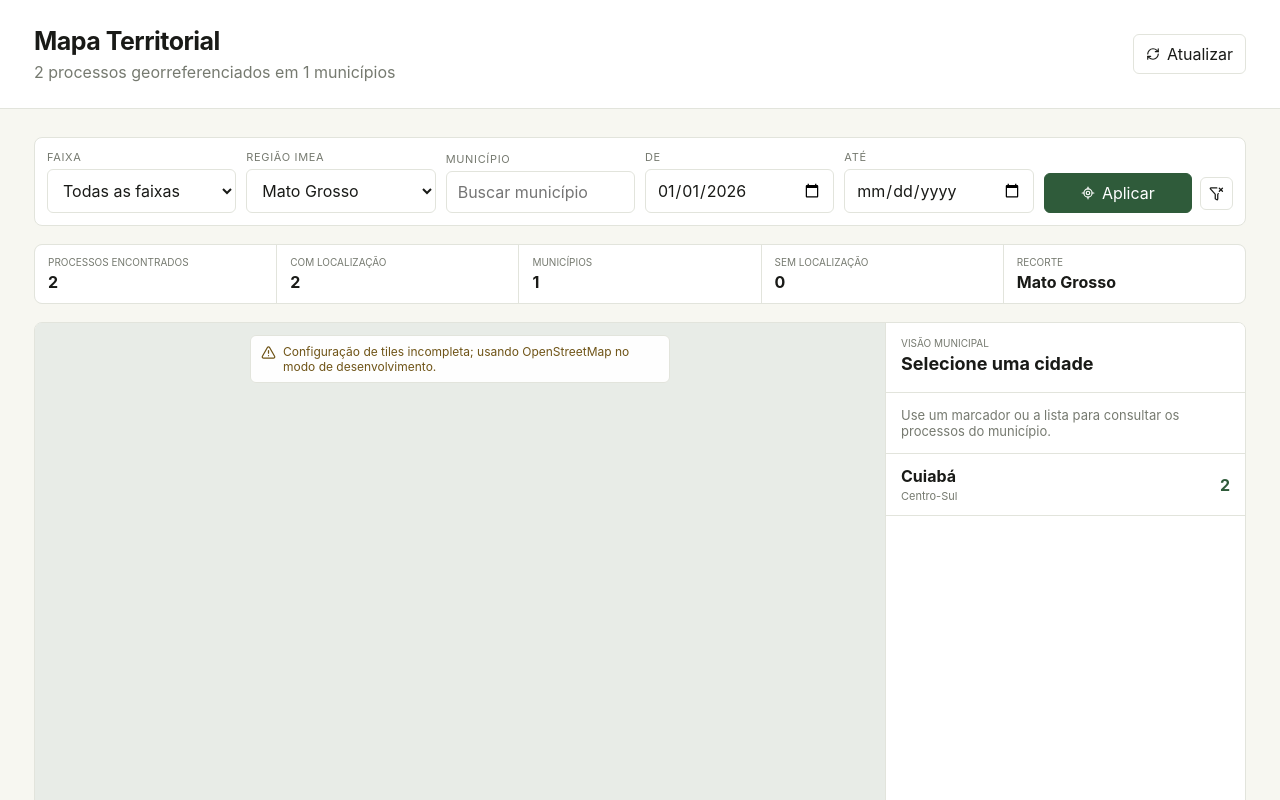
municipal process panel › clears stale rows and total when a later page response is invalid
The image size is (1280, 800).
Click the button "Cuiabá Centro-Sul 2" at (928, 476), box [886,454,1245,516]
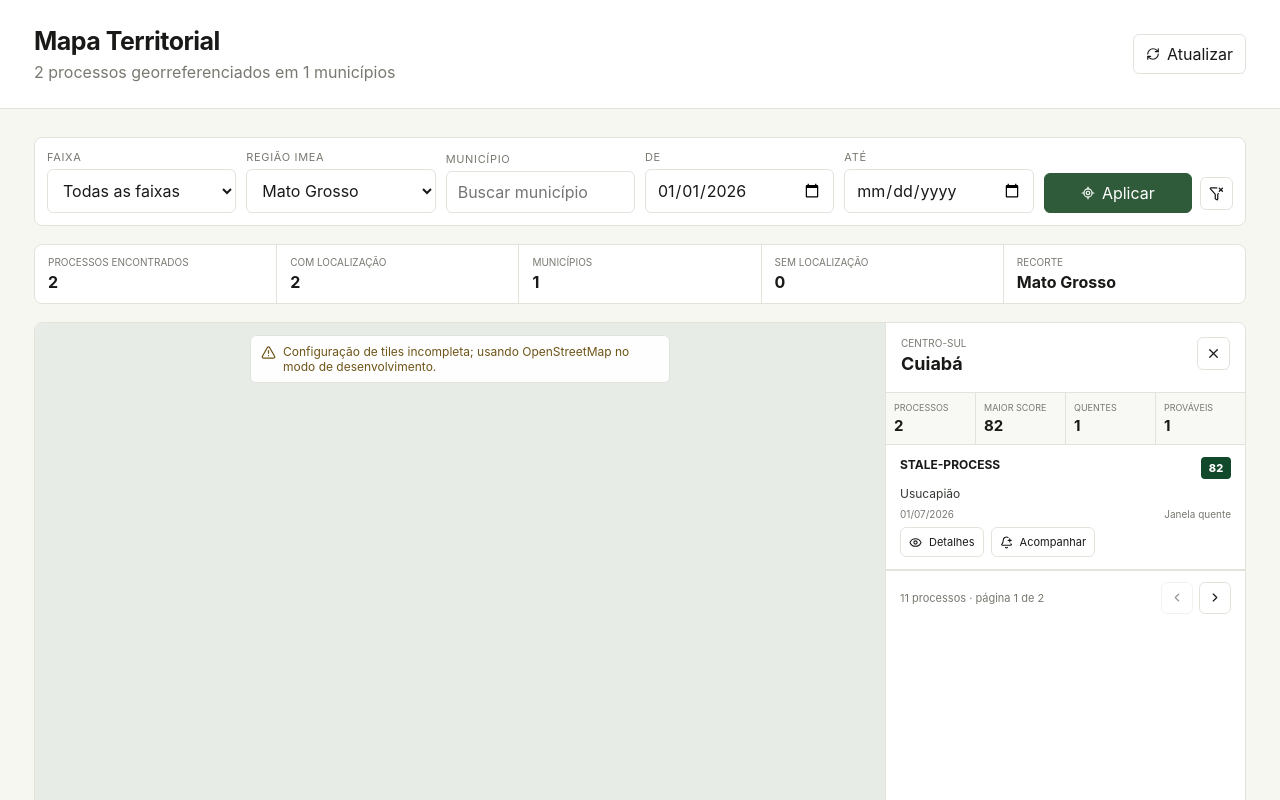
Expected: the text "STALE-PROCESS" is shown, [900,457,1000,472]
Expected: the text "11 processos · página 1 de 2" is shown, [900,590,1044,604]
Click the button named "Próxima página" at (1215, 598), box [1199,582,1231,614]
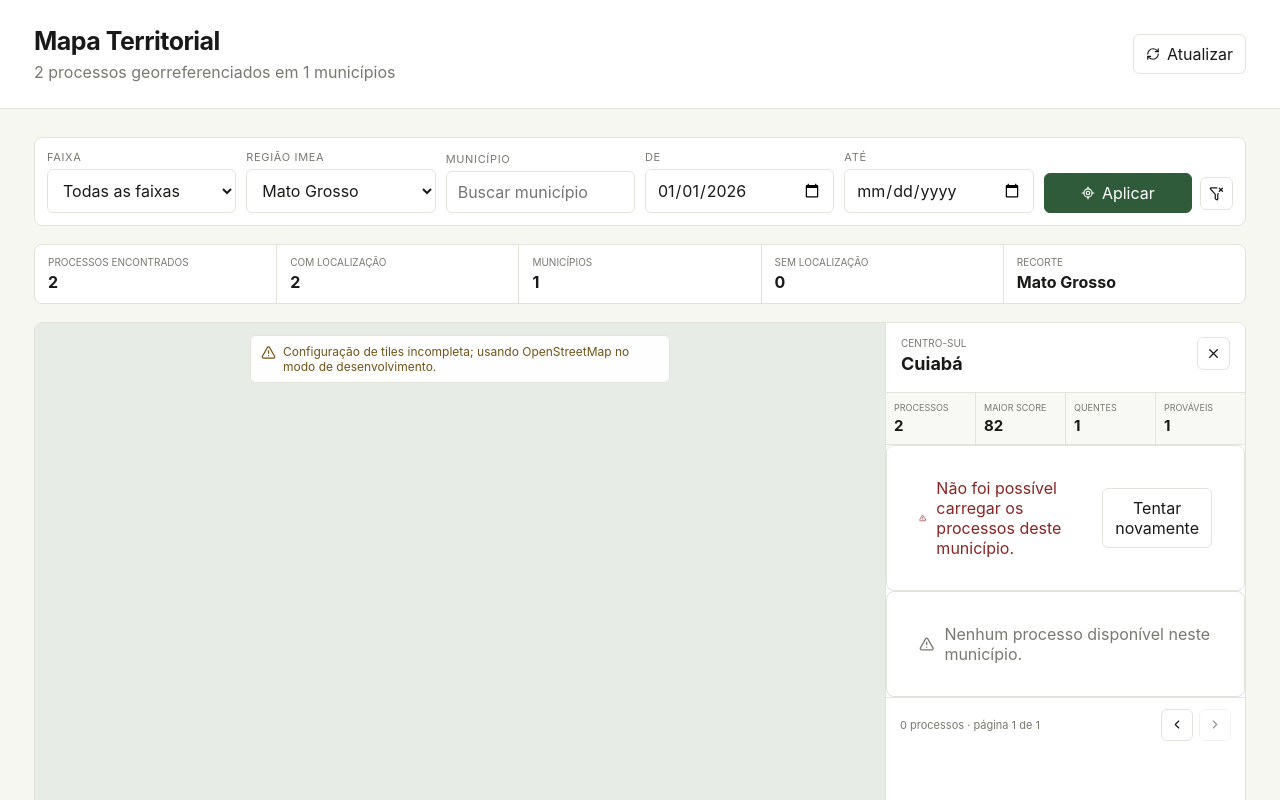
Expected: the text "Não foi possível carregar os processos deste município." is shown, [936,478,1061,558]
Expected: the text "STALE-PROCESS" is gone
Expected: the text "11 processos" is gone
